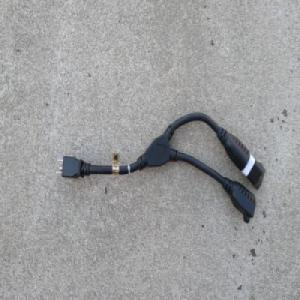Wire: (54, 110, 265, 224)
